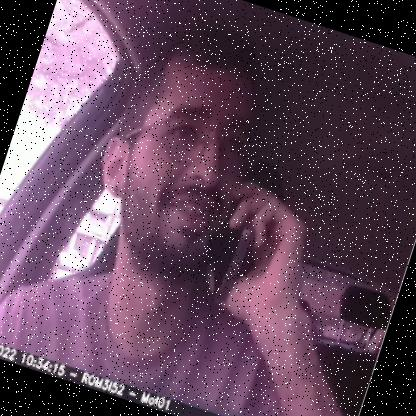phone: (192, 177, 268, 313)
